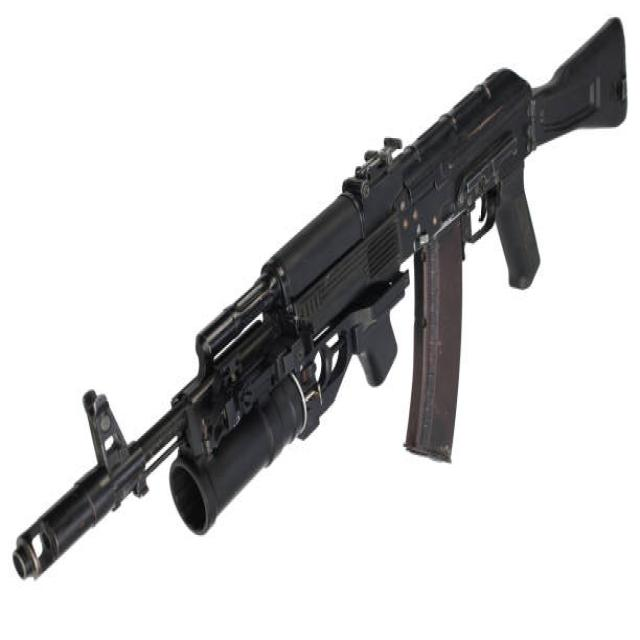rifle: (9, 12, 633, 592)
